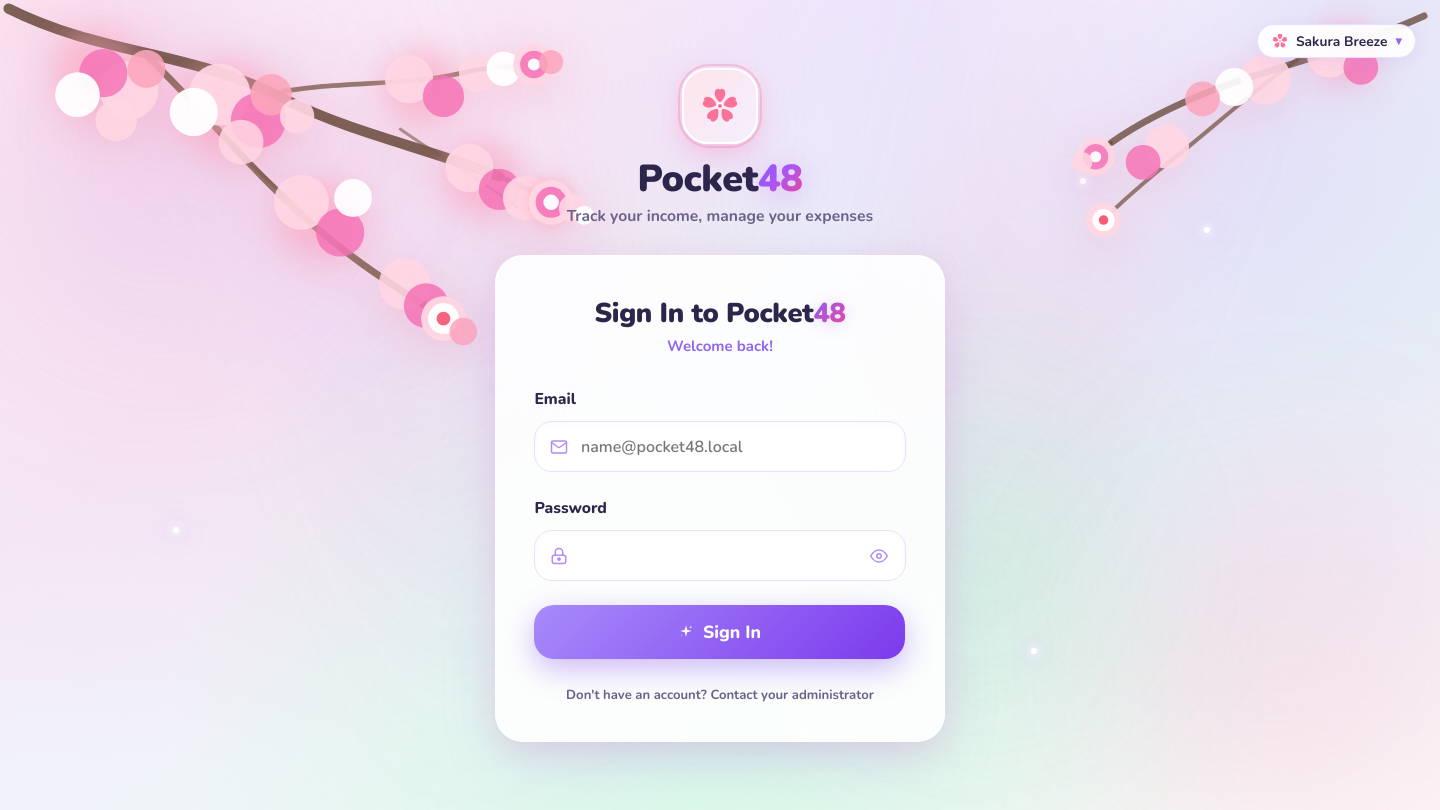
Test: Issue #9: Client login, app shell, and role-aware navigation › logs in as ADMINISTRATOR, loads /api/auth/me, and navigates to /admin/categories
The width and height of the screenshot is (1440, 810).
Type "admin@pocket48.local" into the field labelled "Email". click: point(720, 447)
box: [534,421,906,472]
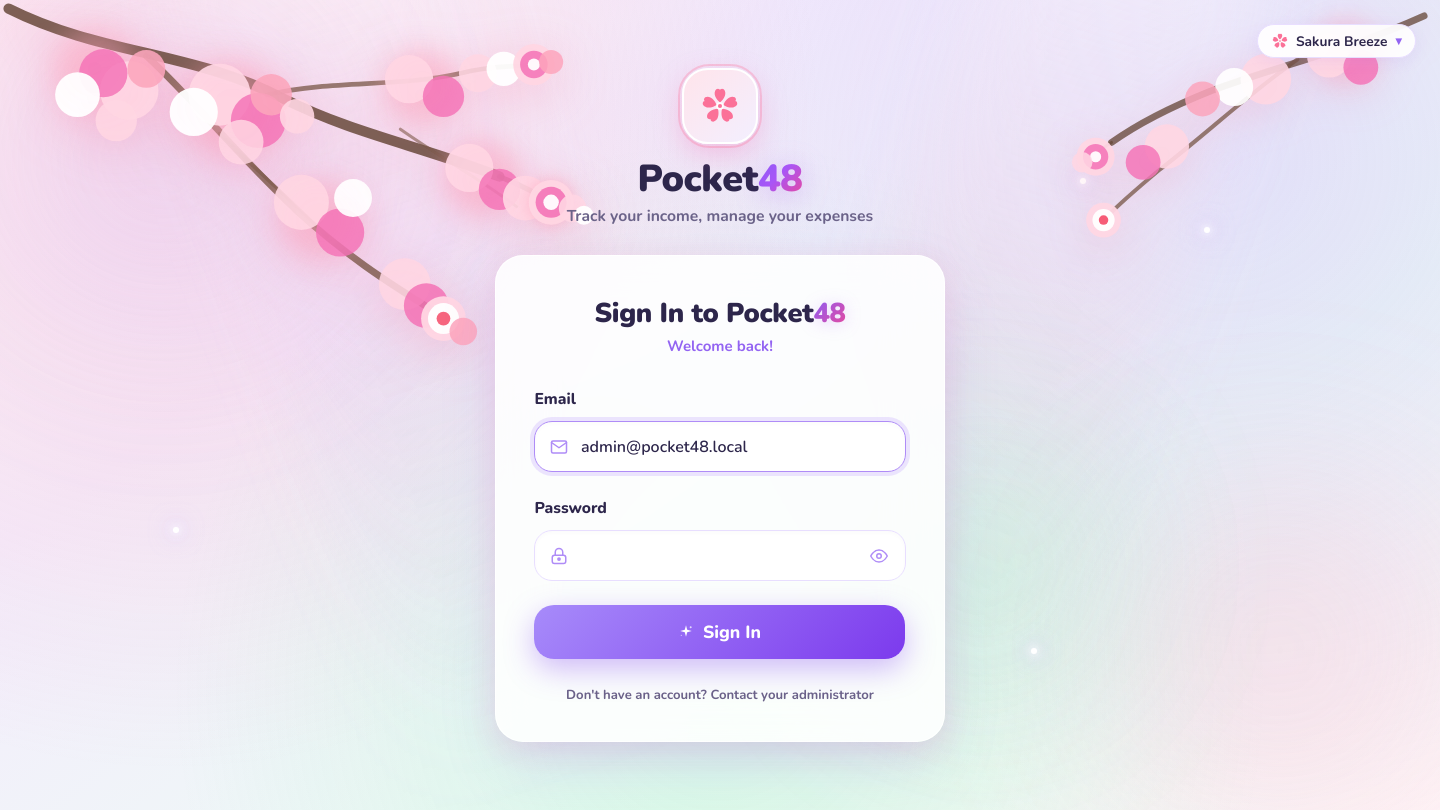
Type "AdminSecret123" into the password field labelled "Password". click: point(720, 556)
box: [534,530,906,581]
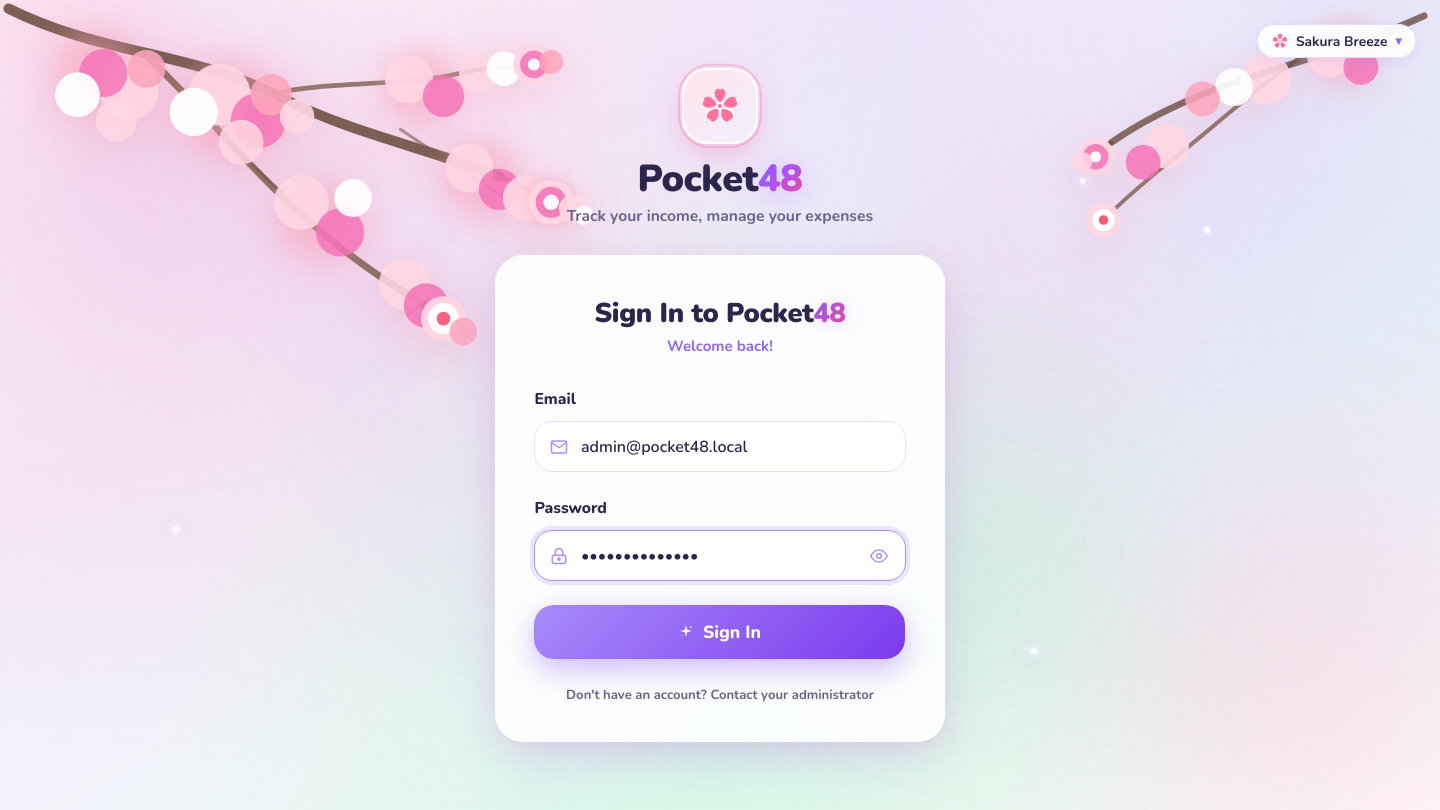
Click the button "Sign In". click: point(720, 632)
box: [534,605,906,660]
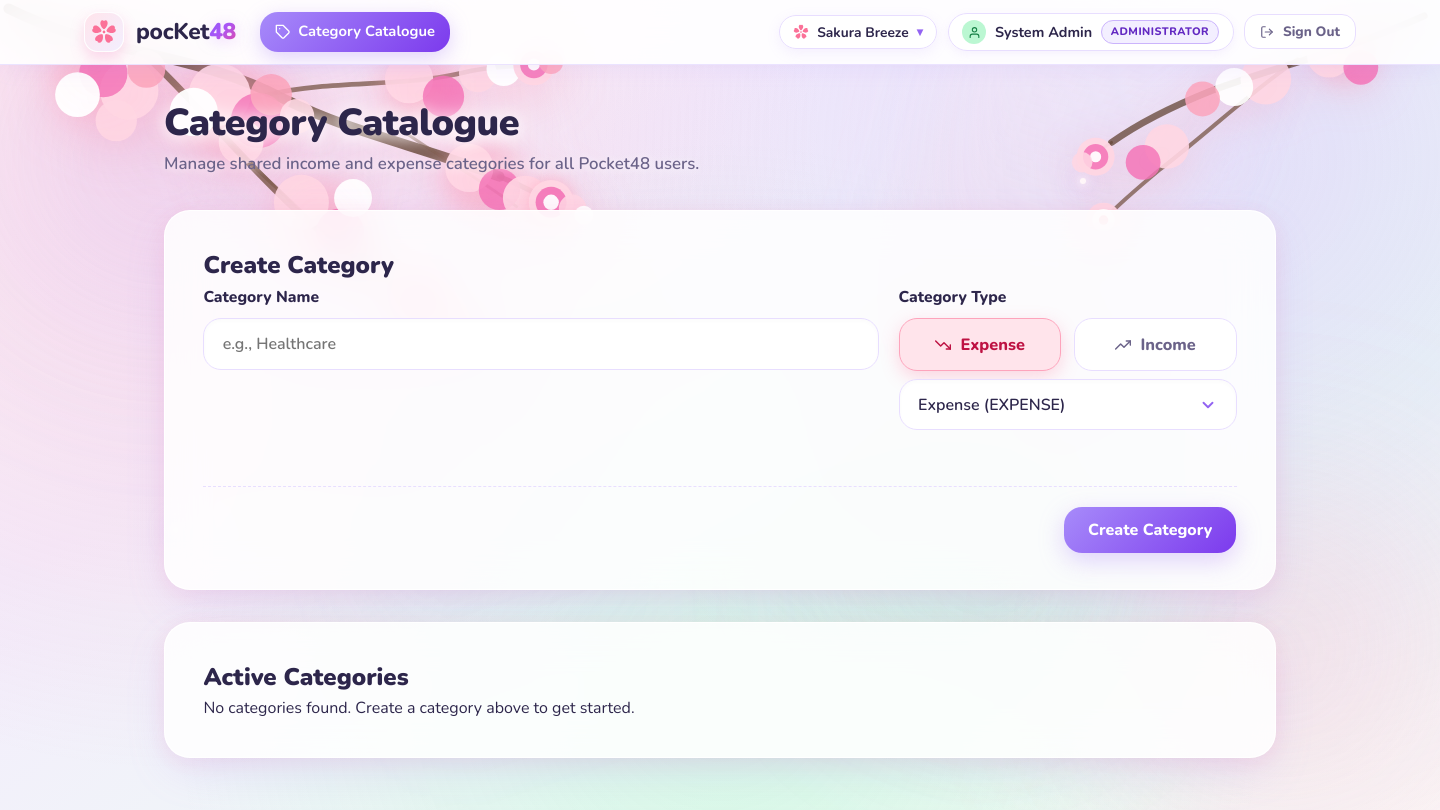
Expected: the text with test id "user-role-badge" reads "ADMINISTRATOR", [1111,24,1209,39]
Expected: the heading "Category Catalogue" is shown, [164,97,519,148]
